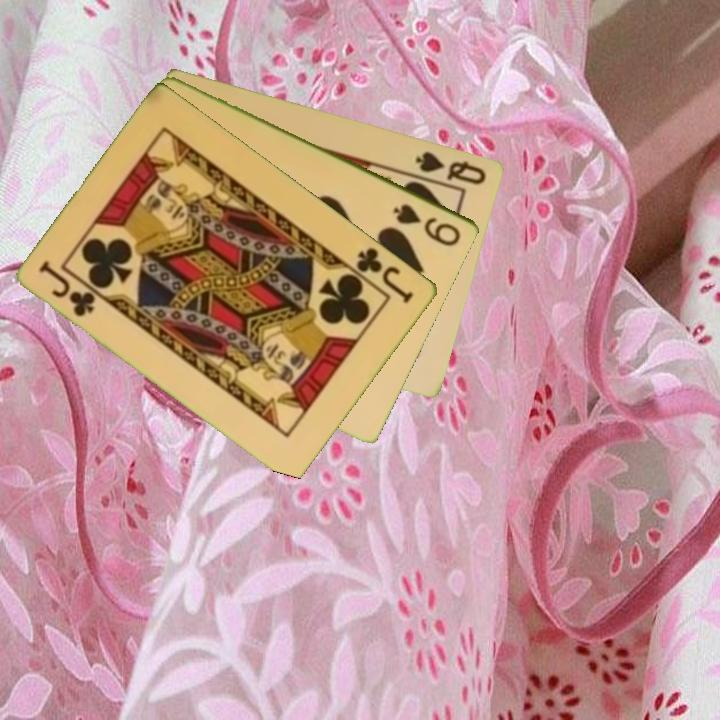9s: (390, 199, 465, 249)
Jc: (353, 243, 418, 307), (35, 257, 99, 320)
Qs: (412, 147, 490, 188)
